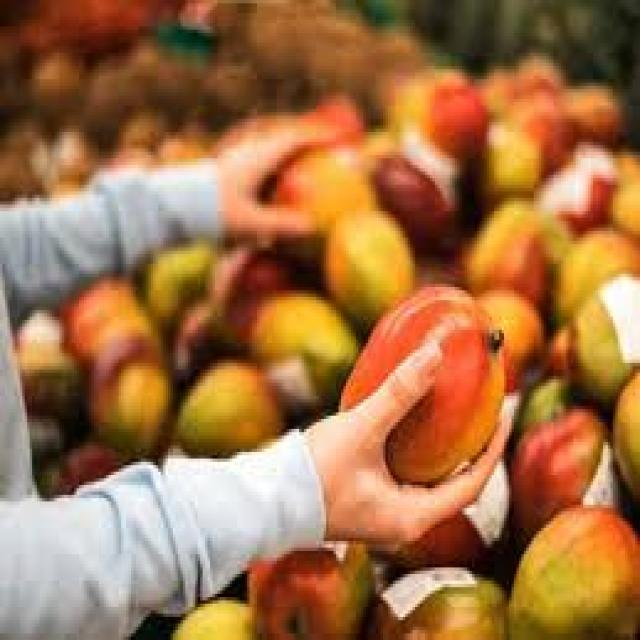mango: (321, 211, 418, 346)
